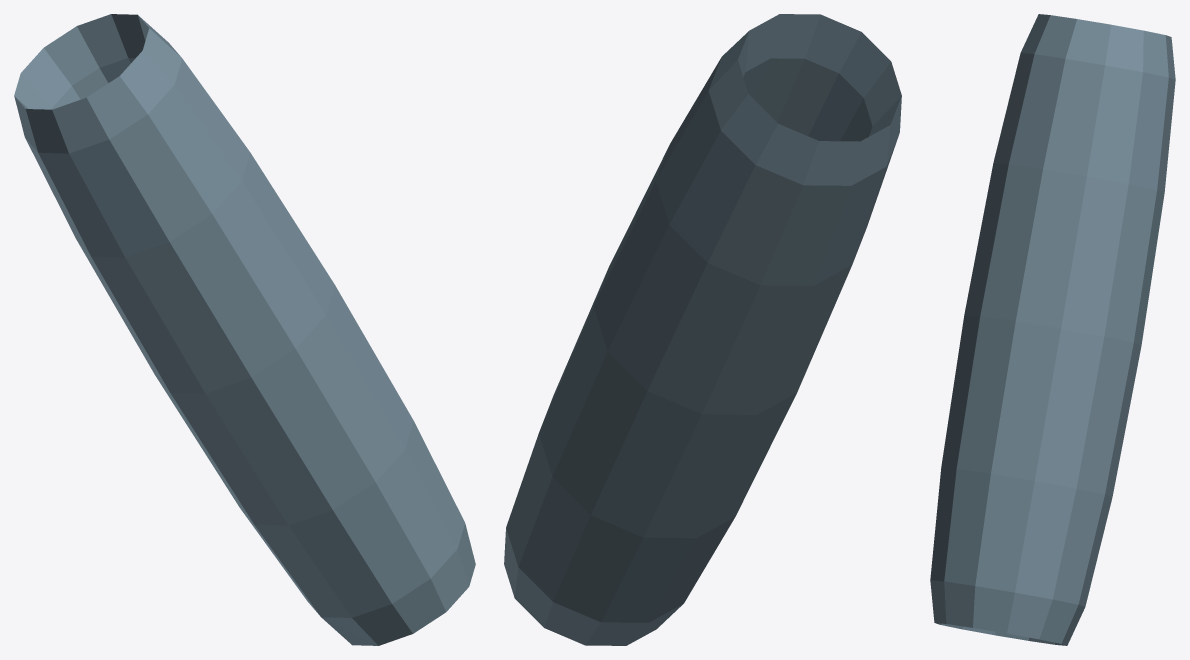
The model's file is astronaut_spawn_group1042580755_lev4.glb.
3 views of the same model, side by side, from view 1: azimuth 30°, elevation 25°; view 2: azimuth 150°, elevation 25°; view 3: azimuth 270°, elevation 25° (orthographic). The views are drawn at different scales.
Parts seen in each view (by area): view 1: astronaut_spawn_group1042580755_lev4; view 2: astronaut_spawn_group1042580755_lev4; view 3: astronaut_spawn_group1042580755_lev4.
Boxes of the visible parts, x1,y1,x2,y2 form: astronaut_spawn_group1042580755_lev4: (14, 14, 475, 645); astronaut_spawn_group1042580755_lev4: (504, 14, 901, 645); astronaut_spawn_group1042580755_lev4: (930, 14, 1175, 645).
Bounding box in the file's own units: 0.1173 × 0.1808 × 0.0729.
